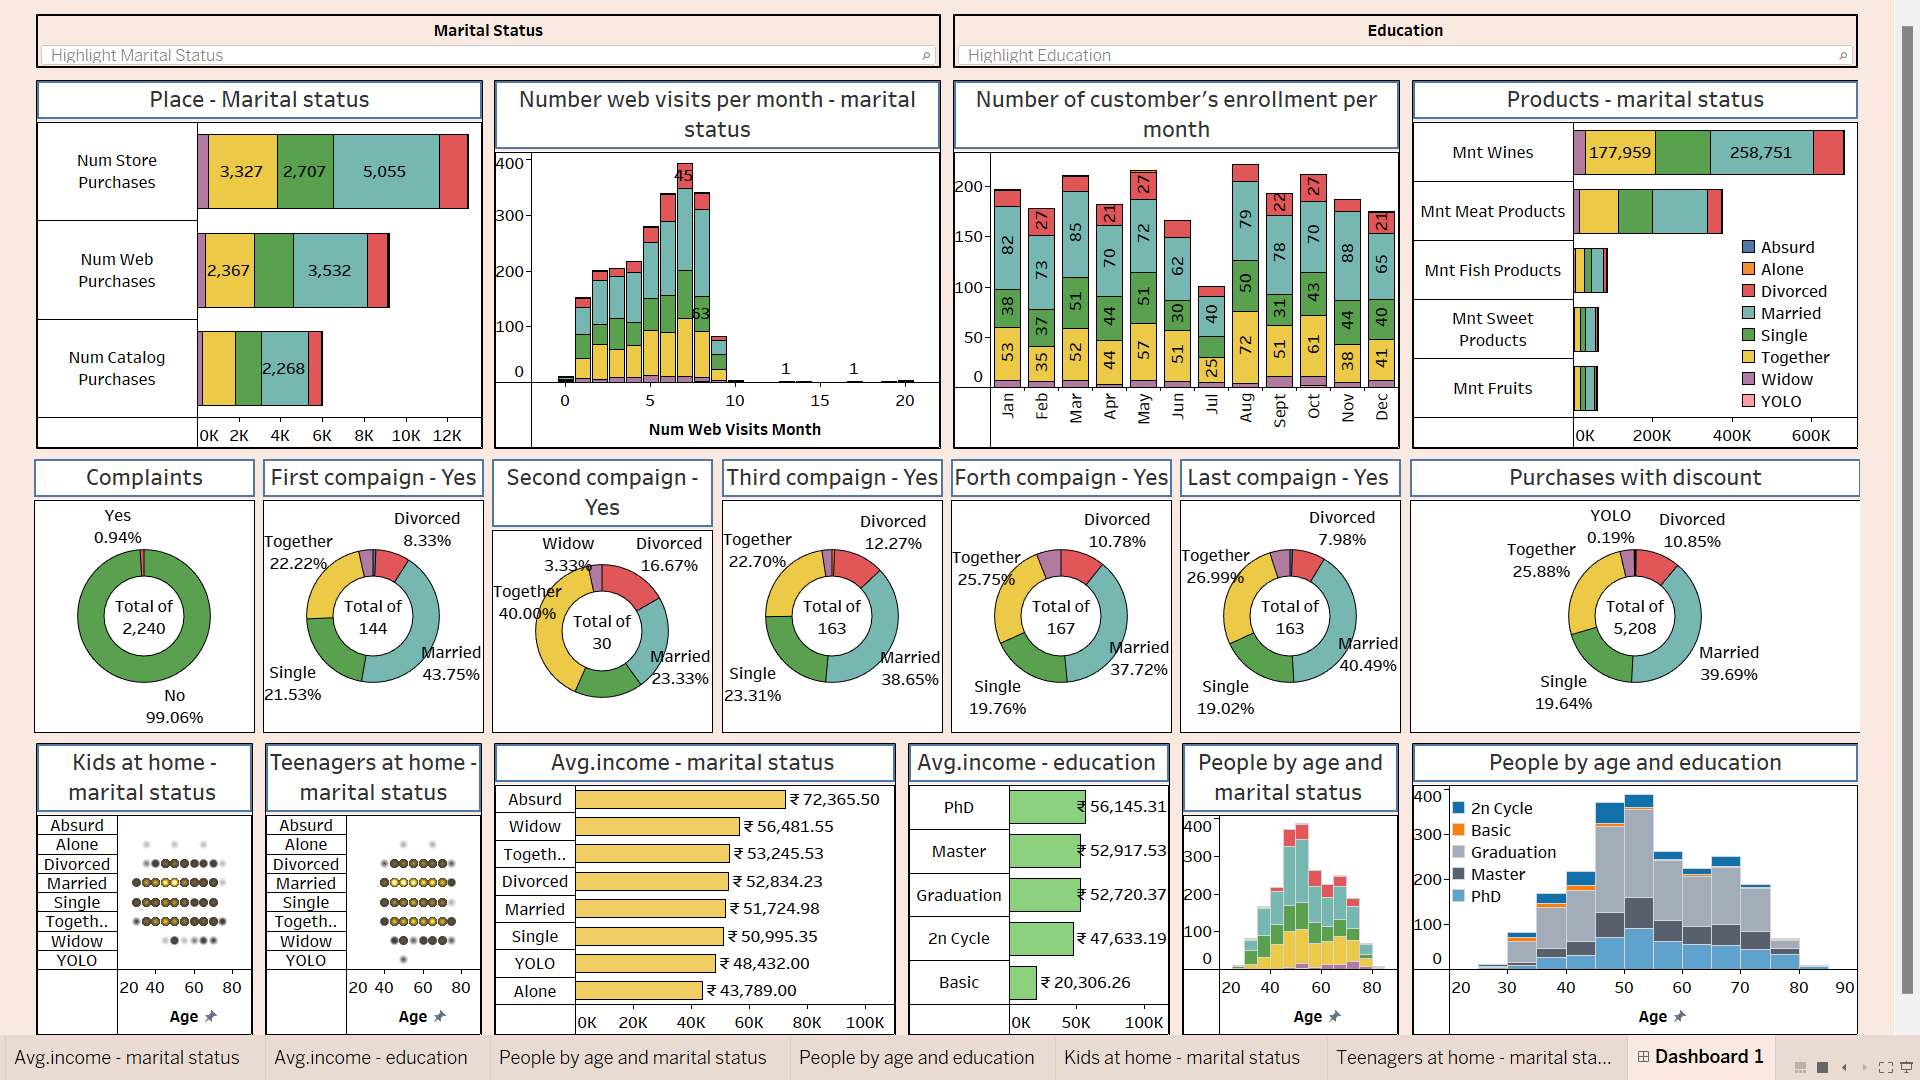

The dashboard page shown, as its layout file describes it:
{"tool":"tableau","page":{"name":"Dashboard 1","canvas":[1850,1050],"ordinal":0},"visuals":[{"type":"highlighter","title":"Place - Marital status","param":"[federated.0jl2e4i1ifilje15ps39h1dxka5y].[none:Marital_Status:nk]","box":[8,8,917,66]},{"type":"highlighter","title":"People by age and education","param":"[federated.0jl2e4i1ifilje15ps39h1dxka5y].[none:Education:nk]","box":[925,8,917,66]},{"type":"worksheet","title":"Place - Marital status","mark":"Automatic","box":[8,74,458.5,381]},{"type":"worksheet","title":"Number web visits per month - marital status","mark":"Bar","rows":["ID"],"cols":["NumWebVisitsMonth"],"box":[466.5,74,458.5,381]},{"type":"worksheet","title":"Number of customber's enrollment per month","mark":"Bar","rows":["ID"],"cols":["Dt_Customer"],"box":[925,74,458.5,381]},{"type":"worksheet","title":"Products - marital status","mark":"Bar","box":[1383.5,74,458.5,381]},{"type":"legend","title":"Place - Marital status","param":"[federated.0jl2e4i1ifilje15ps39h1dxka5y].[none:Marital_Status:nk]","box":[1716,213,103,199]},{"type":"worksheet","title":"Complaints","mark":"Pie","rows":["Calculation_128915547365289989","Calculation_128915547365289989"],"box":[8,455,229.3,282]},{"type":"worksheet","title":"First compaign - Yes","mark":"Pie","rows":["Calculation_128915547365289989","Calculation_128915547365289989"],"box":[237.2,455,229.3,282]},{"type":"worksheet","title":"Second compaign - Yes","mark":"Pie","rows":["Calculation_128915547365289989","Calculation_128915547365289989"],"box":[466.5,455,229.3,282]},{"type":"worksheet","title":"Third compaign - Yes","mark":"Pie","rows":["Calculation_128915547365289989","Calculation_128915547365289989"],"box":[695.7,455,229.3,282]},{"type":"worksheet","title":"Forth compaign - Yes ","mark":"Pie","rows":["Calculation_128915547365289989","Calculation_128915547365289989"],"box":[925,455,229.3,282]},{"type":"worksheet","title":"Last compaign - Yes ","mark":"Pie","rows":["Calculation_128915547365289989","Calculation_128915547365289989"],"box":[1154.3,455,229.3,282]},{"type":"worksheet","title":"Purchases with discount","mark":"Pie","rows":["Calculation_128915547365289989","Calculation_128915547365289989"],"box":[1383.5,455,458.5,282]},{"type":"worksheet","title":"Kids at home - marital status ","mark":"Heatmap","rows":["Marital_Status"],"cols":["Age (bin)"],"box":[8,737,229.3,305]},{"type":"worksheet","title":"Teenagers at home - marital status","mark":"Heatmap","rows":["Marital_Status"],"cols":["Age (bin)"],"box":[237.2,737,228.8,305]},{"type":"worksheet","title":"Avg.income - marital status ","mark":"Bar","rows":["Marital_Status"],"cols":["Income"],"box":[466,737,414,305]},{"type":"worksheet","title":"Avg.income - education ","mark":"Bar","rows":["Education"],"cols":["Income"],"box":[880,737,274.2,305]},{"type":"worksheet","title":"People by age and marital status ","mark":"Automatic","rows":["Calculation_128915547396796422"],"cols":["Age (bin)"],"box":[1154.3,737,229.3,305]},{"type":"worksheet","title":"People by age and education","mark":"Automatic","rows":["Calculation_128915547396796422"],"cols":["Age (bin)"],"box":[1383.5,737,458.5,305]},{"type":"legend","title":"People by age and education","param":"[federated.0jl2e4i1ifilje15ps39h1dxka5y].[none:Education:nk]","box":[1426,774,140,133]}]}

Visuals, with their boxes in screenshot pixels (x1, y1, x2, y2):
"Place - Marital status" highlighter: bbox(13, 0, 943, 60)
"People by age and education" highlighter: bbox(943, 0, 1873, 60)
"Place - Marital status" worksheet: bbox(13, 60, 478, 447)
"Number web visits per month - marital status" worksheet (Bar marks): bbox(478, 60, 943, 447)
"Number of customber's enrollment per month" worksheet (Bar marks): bbox(943, 60, 1408, 447)
"Products - marital status" worksheet (Bar marks): bbox(1408, 60, 1873, 447)
"Place - Marital status" legend: bbox(1746, 201, 1850, 403)
"Complaints" worksheet (Pie marks): bbox(13, 447, 246, 733)
"First compaign - Yes" worksheet (Pie marks): bbox(246, 447, 478, 733)
"Second compaign - Yes" worksheet (Pie marks): bbox(478, 447, 711, 733)
"Third compaign - Yes" worksheet (Pie marks): bbox(711, 447, 943, 733)
"Forth compaign - Yes " worksheet (Pie marks): bbox(943, 447, 1176, 733)
"Last compaign - Yes " worksheet (Pie marks): bbox(1176, 447, 1408, 733)
"Purchases with discount" worksheet (Pie marks): bbox(1408, 447, 1873, 733)
"Kids at home - marital status " worksheet (Heatmap marks): bbox(13, 733, 246, 1042)
"Teenagers at home - marital status" worksheet (Heatmap marks): bbox(246, 733, 478, 1042)
"Avg.income - marital status " worksheet (Bar marks): bbox(478, 733, 898, 1042)
"Avg.income - education " worksheet (Bar marks): bbox(898, 733, 1176, 1042)
"People by age and marital status " worksheet: bbox(1176, 733, 1408, 1042)
"People by age and education" worksheet: bbox(1408, 733, 1873, 1042)
"People by age and education" legend: bbox(1451, 770, 1593, 905)
